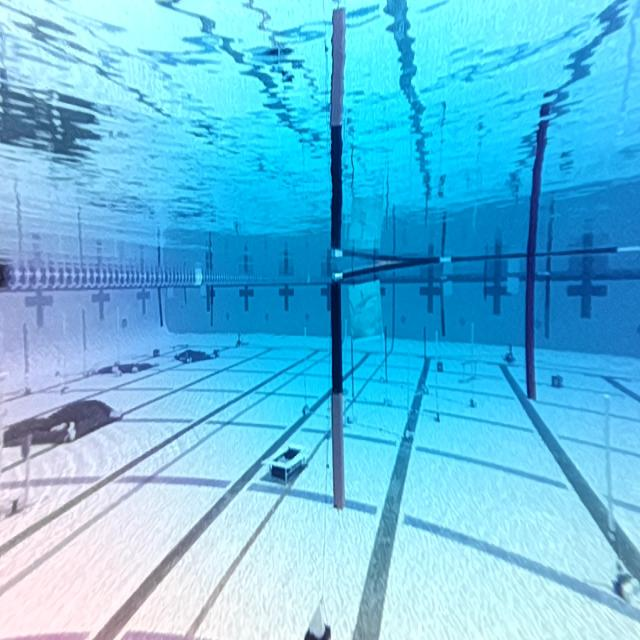round_nose: (348, 281, 383, 337)
